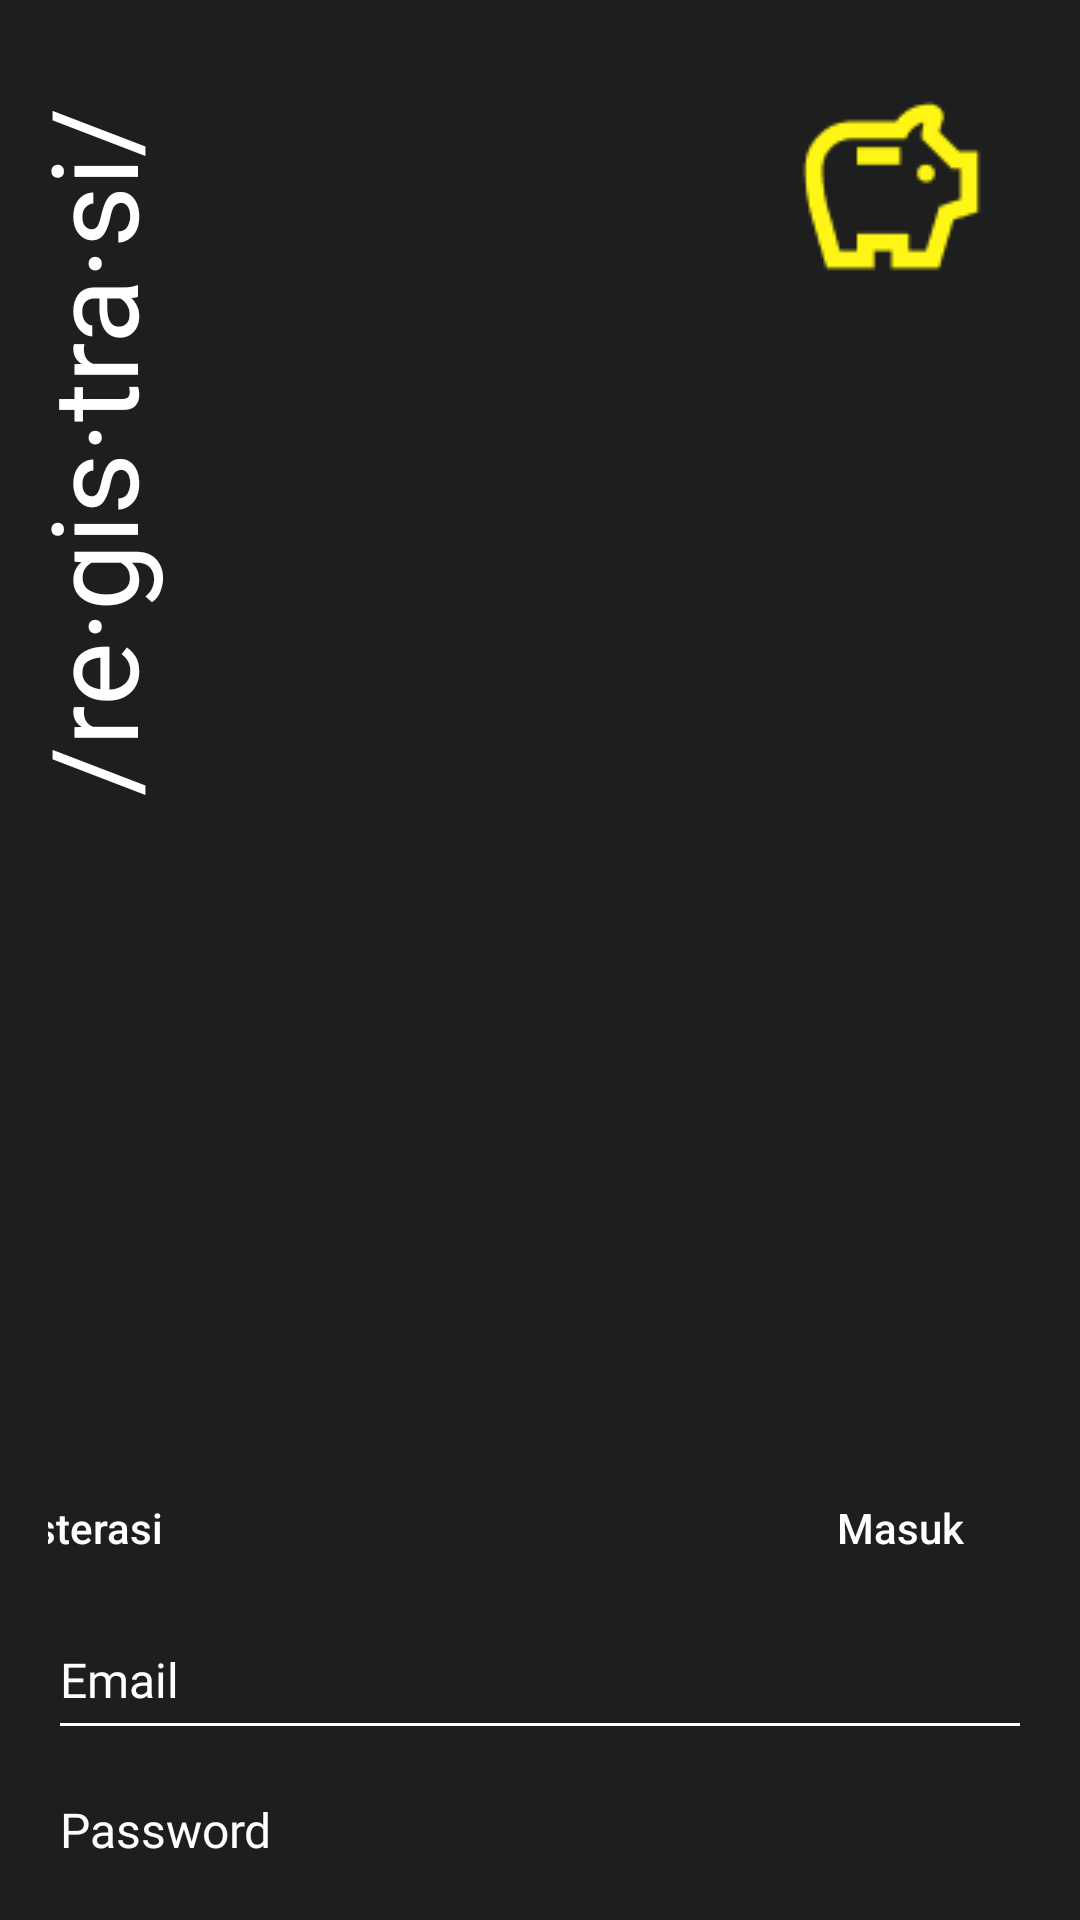

Where to tap for icons on this 1080 x 1920 app screen, as (x=x, y=y):
savings: (x=891, y=186)
